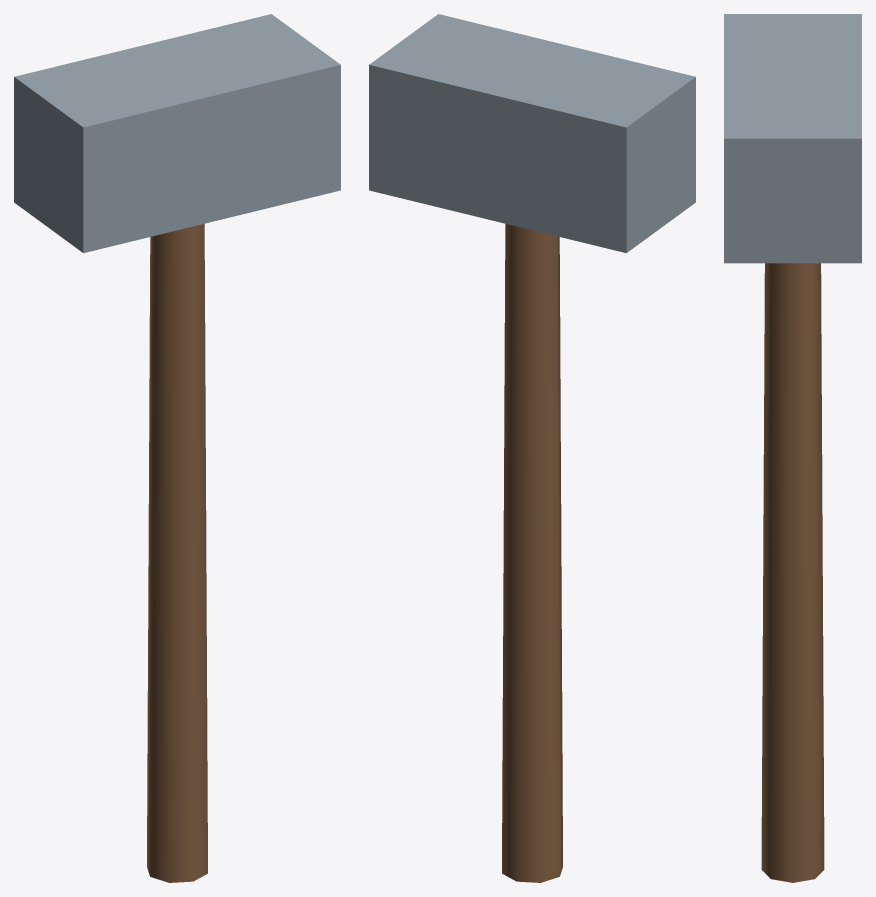
Rendered from hammer.glb.
3 views of the same model, side by side, from view 1: azimuth 30°, elevation 25°; view 2: azimuth 150°, elevation 25°; view 3: azimuth 270°, elevation 25° (orthographic).
Parts seen in each view (by area): view 1: hammer; view 2: hammer; view 3: hammer.
Part boxes in pixels (x1,y1,x2,y2): hammer: (14,14,340,882); hammer: (369,14,695,882); hammer: (724,14,861,882).
Size of the model in its own units: 0.3 by 0.89 by 0.14.
